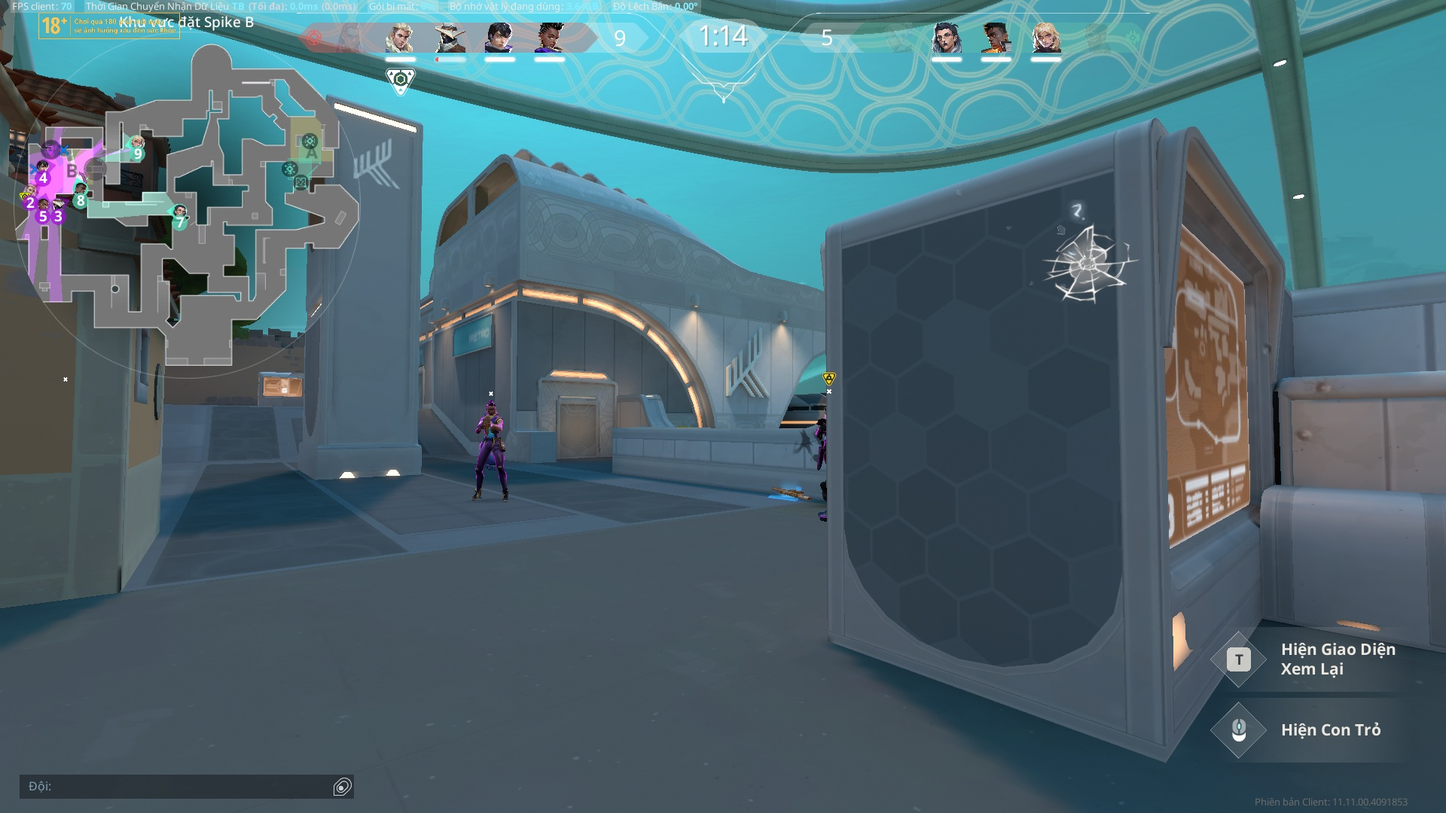body: (479, 413, 502, 440)
head: (485, 400, 499, 416)
